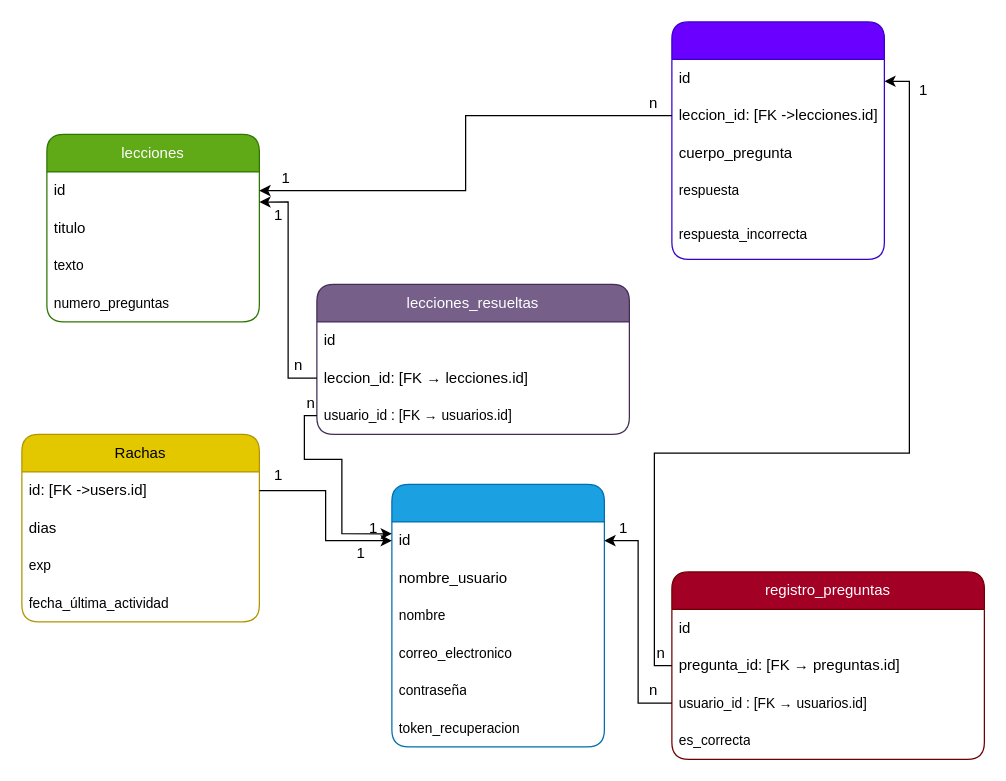
This 1006x781 diagram has some shape labels left out. Here are the shapes that lost their labels. From the top down, the box of each, then its label:
(671, 21, 884, 259): preguntas
(391, 483, 604, 747): usuarios
